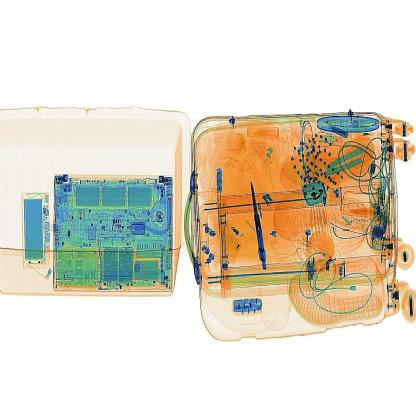gun: (242, 177, 282, 284)
